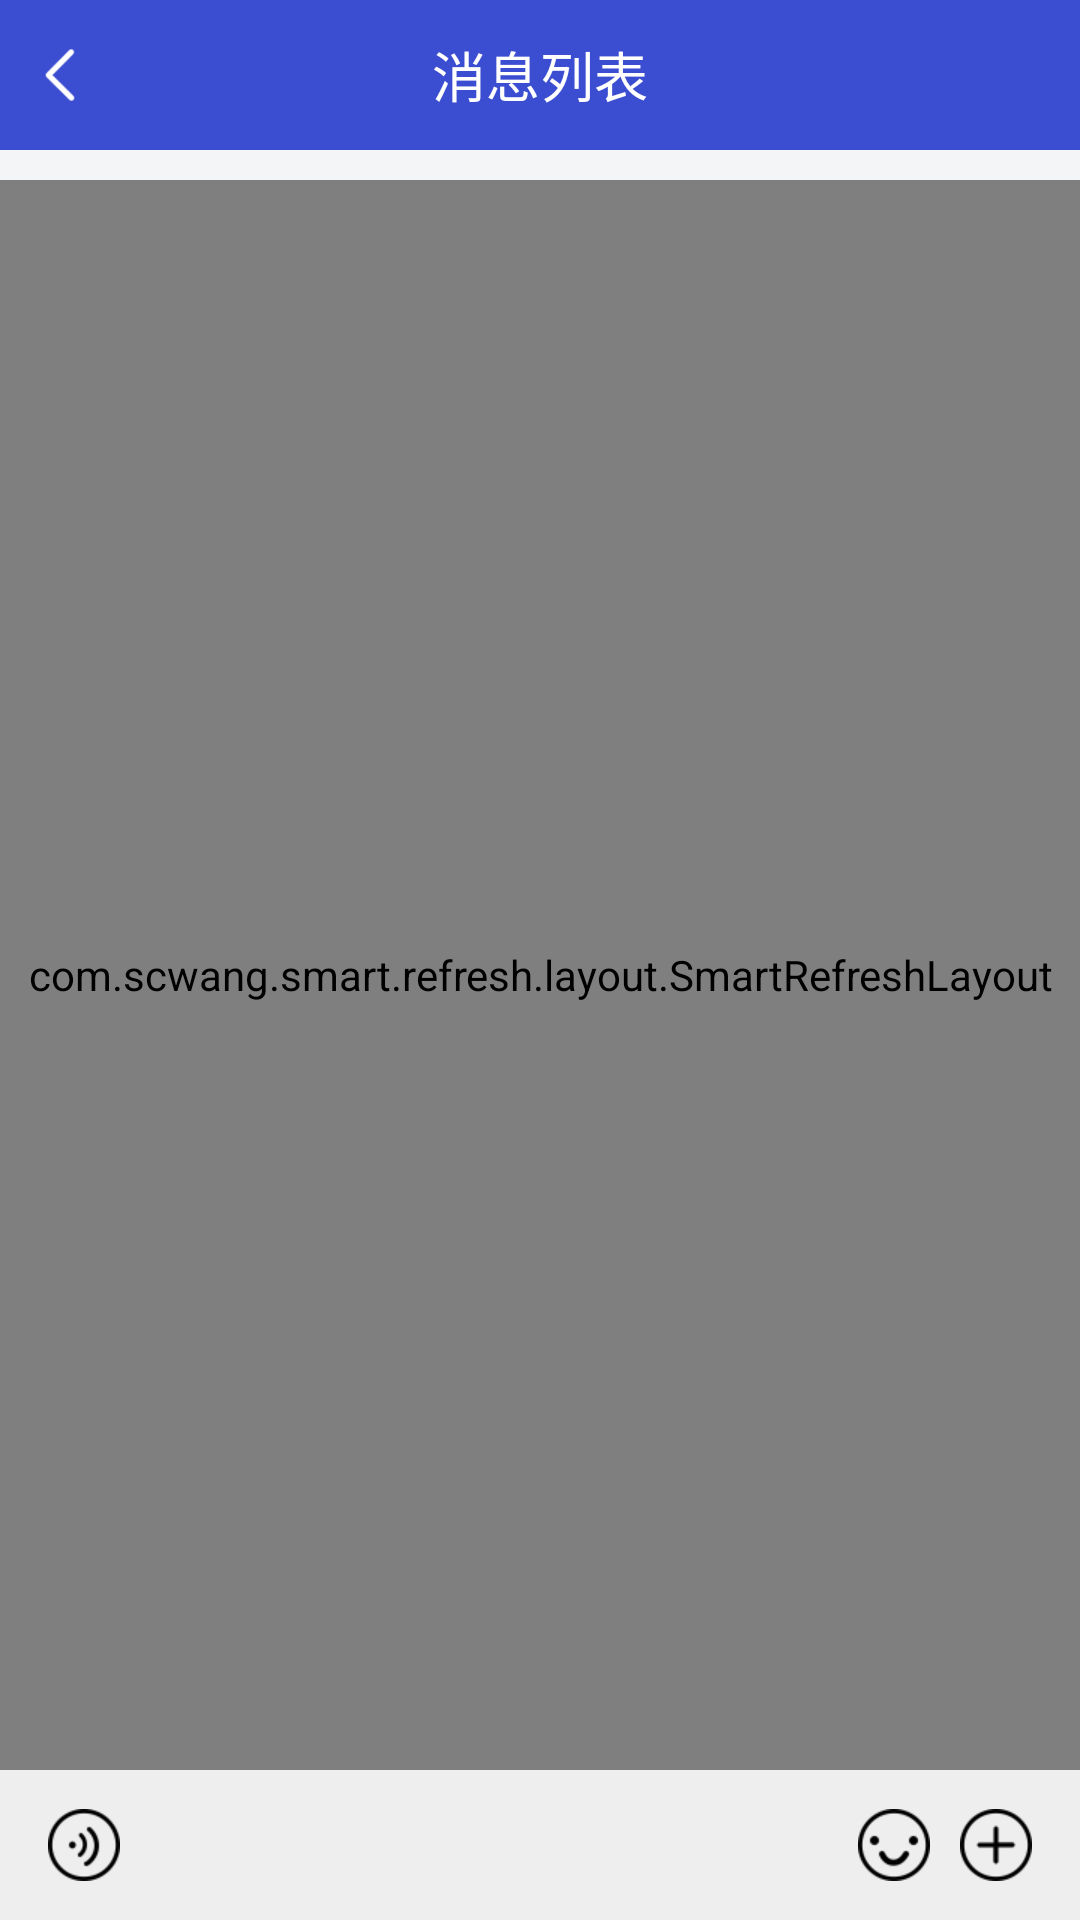

Where to tap for icons on this 1080px×1920px app screen, as (x,y):
back: (60,75)
emoji: (894,1845)
more: (996,1845)
voice: (84,1845)
